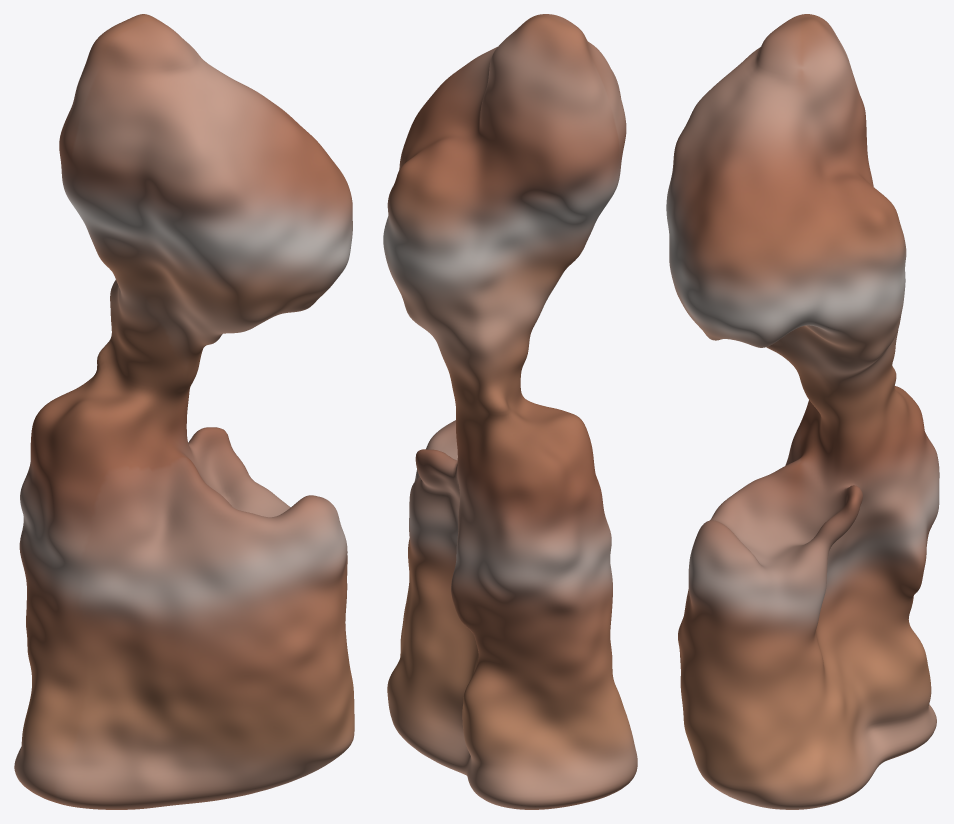
Rendered from idlex-monolith.glb.
3 views of the same model, side by side, from view 1: azimuth 30°, elevation 25°; view 2: azimuth 150°, elevation 25°; view 3: azimuth 270°, elevation 25° (orthographic). The views are drawn at different scales.
Visible parts, largest first — view 1: geometry_0; view 2: geometry_0; view 3: geometry_0.
Boxes of the visible parts, x1=… form: geometry_0: x1=14, y1=14, x2=354, y2=809; geometry_0: x1=383, y1=14, x2=637, y2=809; geometry_0: x1=666, y1=14, x2=939, y2=809.
Bounding box in the file's own units: 2.05 × 5.47 × 1.82.
